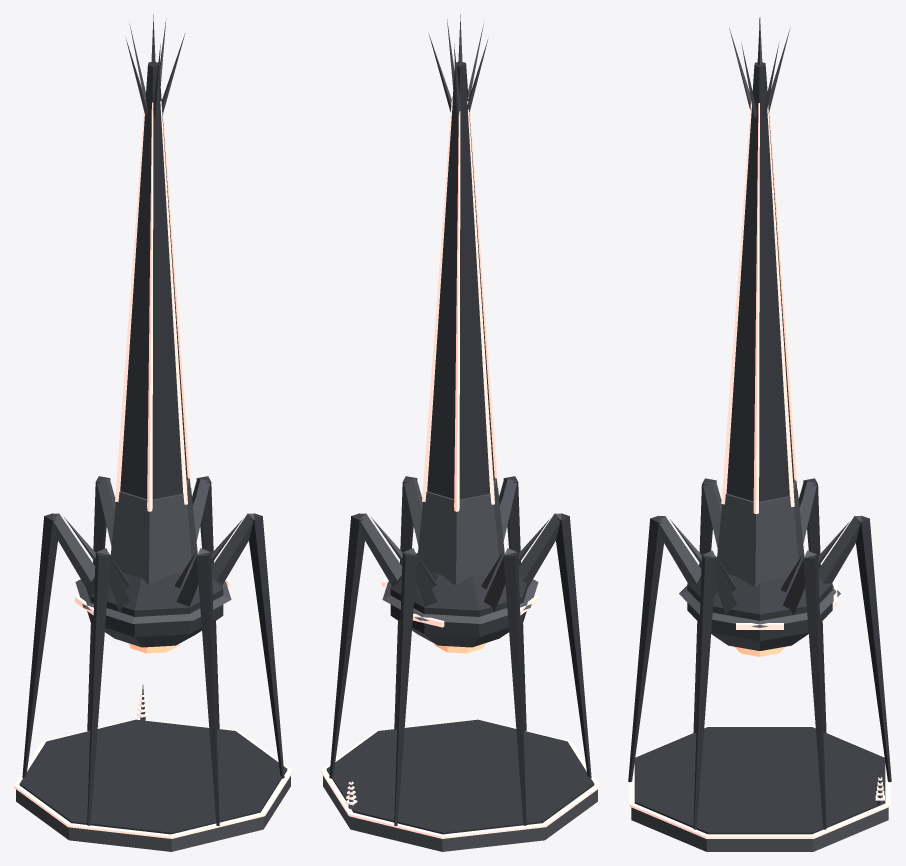
File: zone_high_4_t5.glb
The picture shows the model from 3 angles, left to right: view 1: azimuth 30°, elevation 25°; view 2: azimuth 150°, elevation 25°; view 3: azimuth 270°, elevation 25°; orthographic projection.
Visible parts, largest first — view 1: zone_high_4_t5; view 2: zone_high_4_t5; view 3: zone_high_4_t5.
Boxes of the visible parts, <box> form: zone_high_4_t5: <box>14,14,292,851</box>; zone_high_4_t5: <box>321,14,599,851</box>; zone_high_4_t5: <box>628,17,891,851</box>.
Bounding box in the file's own units: 27.35 × 90.53 × 27.6.
